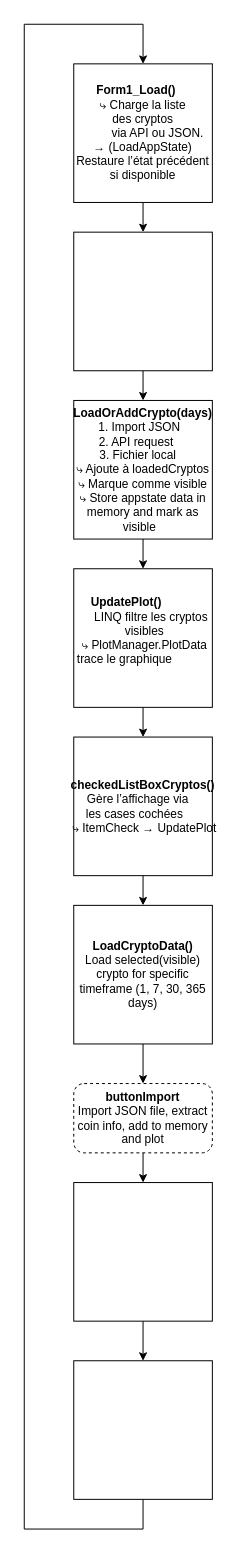
This 236x1554 diagram has some shape labels left out. Each missing label, with the box of its shape:
comboBoxCoins (liste) Sélection d'u ne crypto ⤷ Appelle LoadOrAddCrypto: (73, 231, 212, 371)
Form1_FormClosing() closing the form(application): (73, 1182, 212, 1321)
SaveAppState() Save loaded and visible cryptos to local JSON for next session: (73, 1360, 212, 1499)
